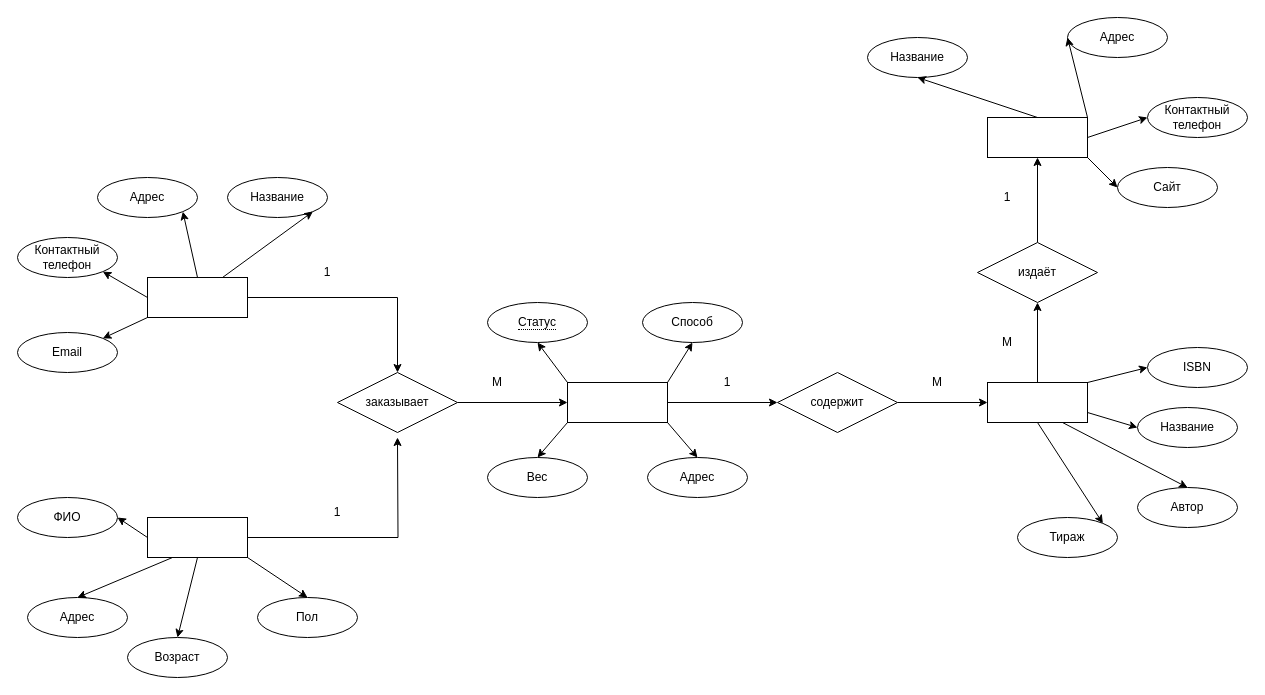
Image size: 1265x695. Some labels were removed from this diagram. Each missing label, with the box of its shape:
Доставка: (566, 382, 668, 422)
Издательство: (986, 116, 1088, 158)
Книги: (986, 382, 1088, 422)
Магазины: (146, 276, 248, 318)
Покупатель: (146, 516, 248, 558)
